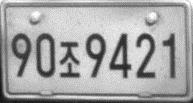0: (35, 31, 56, 77)
1: (162, 32, 177, 79)
2: (135, 32, 158, 79)
4: (107, 31, 131, 78)
9: (10, 33, 33, 78), (85, 33, 106, 77)
조: (57, 41, 81, 79)
